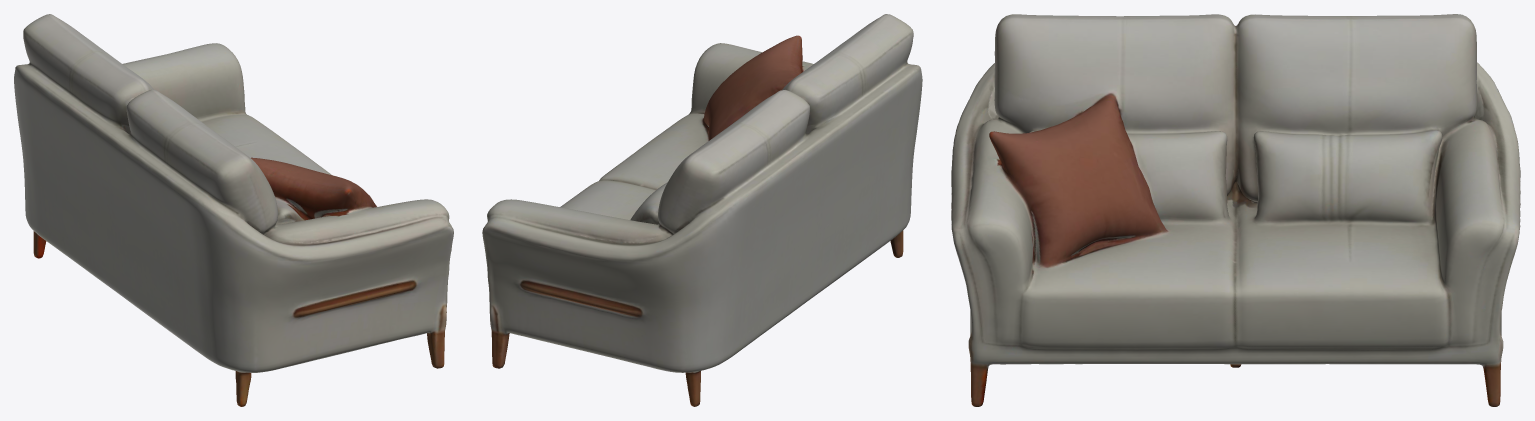
File: tripo_convert_b927be71-05d5-4d18-8501-d63233f08d56.glb
3 views of the same model, side by side, from view 1: azimuth 30°, elevation 25°; view 2: azimuth 150°, elevation 25°; view 3: azimuth 270°, elevation 25° (orthographic). The views are drawn at different scales.
Parts seen in each view (by area): view 1: tripo_node_b927be71-05d5-4d18-8501-d63233f08d56; view 2: tripo_node_b927be71-05d5-4d18-8501-d63233f08d56; view 3: tripo_node_b927be71-05d5-4d18-8501-d63233f08d56.
Part boxes in pixels (<box>): tripo_node_b927be71-05d5-4d18-8501-d63233f08d56: <box>14,14,453,406</box>; tripo_node_b927be71-05d5-4d18-8501-d63233f08d56: <box>482,14,922,406</box>; tripo_node_b927be71-05d5-4d18-8501-d63233f08d56: <box>951,14,1520,406</box>.
Bounding box in the file's own units: 0.5264 × 0.5231 × 0.9475.
Materials: 1 (1 with a texture image).
